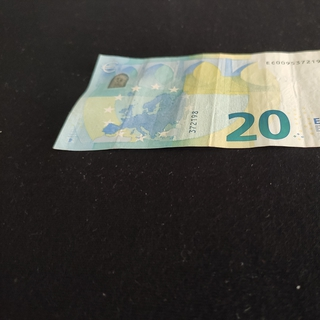20EUROBack: (52, 46, 320, 150)
